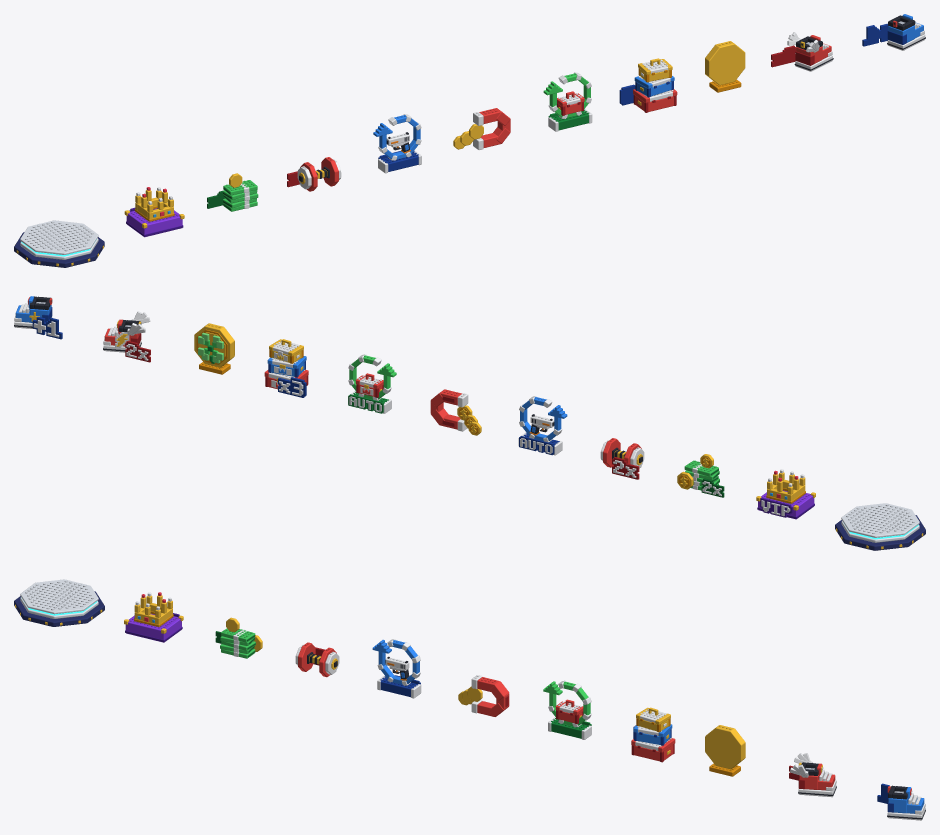
File: Items_Pads.glb
The picture shows the model from 3 angles, top to bottom: view 1: azimuth 30°, elevation 25°; view 2: azimuth 150°, elevation 25°; view 3: azimuth 330°, elevation 25°; orthographic projection.
Visible parts, largest first — view 1: Pad_Base, Pad_TripleOpen, Pad_VIP, Pad_AutoOpen, Pad_AutoShoot, Pad_Lucky, Pad_Speed2x, Pad_ExtraEquip, Pad_AutoCollect, Pad_DoubleCash, Pad_DoubleRep; view 2: Pad_Base, Pad_TripleOpen, Pad_VIP, Pad_AutoOpen, Pad_AutoShoot, Pad_Lucky, Pad_Speed2x, Pad_AutoCollect, Pad_ExtraEquip, Pad_DoubleCash, Pad_DoubleRep; view 3: Pad_Base, Pad_VIP, Pad_AutoOpen, Pad_AutoShoot, Pad_TripleOpen, Pad_Lucky, Pad_Speed2x, Pad_AutoCollect, Pad_ExtraEquip, Pad_DoubleCash, Pad_DoubleRep.
Part boxes in pixels (box(x1,y1,x2,y2)): Pad_Base: box(14, 220, 104, 267); Pad_TripleOpen: box(619, 58, 677, 112); Pad_VIP: box(124, 187, 184, 237); Pad_AutoOpen: box(543, 72, 592, 131); Pad_AutoShoot: box(373, 114, 421, 173); Pad_Lucky: box(705, 41, 745, 92); Pad_Speed2x: box(771, 32, 833, 71); Pad_ExtraEquip: box(862, 14, 925, 50); Pad_AutoCollect: box(453, 108, 510, 149); Pad_DoubleCash: box(207, 173, 258, 211); Pad_DoubleRep: box(287, 157, 341, 191); Pad_Base: box(835, 503, 925, 550); Pad_TripleOpen: box(264, 339, 308, 397); Pad_VIP: box(756, 469, 815, 519); Pad_AutoOpen: box(348, 354, 396, 413); Pad_AutoShoot: box(518, 396, 567, 455); Pad_Lucky: box(194, 323, 234, 374); Pad_Speed2x: box(103, 311, 150, 362); Pad_AutoCollect: box(430, 389, 481, 435); Pad_ExtraEquip: box(14, 296, 62, 339); Pad_DoubleCash: box(677, 454, 724, 497); Pad_DoubleRep: box(600, 438, 644, 479); Pad_Base: box(14, 579, 104, 626); Pad_VIP: box(124, 592, 183, 642); Pad_AutoOpen: box(543, 680, 591, 739); Pad_AutoShoot: box(372, 639, 421, 698); Pad_TripleOpen: box(631, 707, 675, 762); Pad_Lucky: box(705, 725, 745, 776); Pad_Speed2x: box(789, 753, 836, 797); Pad_AutoCollect: box(458, 675, 509, 716); Pad_ExtraEquip: box(877, 783, 925, 820); Pad_DoubleCash: box(215, 617, 262, 658); Pad_DoubleRep: box(295, 642, 339, 677).
Size of the model in its own units: 97.89 by 5.18 by 8.12.
Materials: 12 (11 with a texture image).
